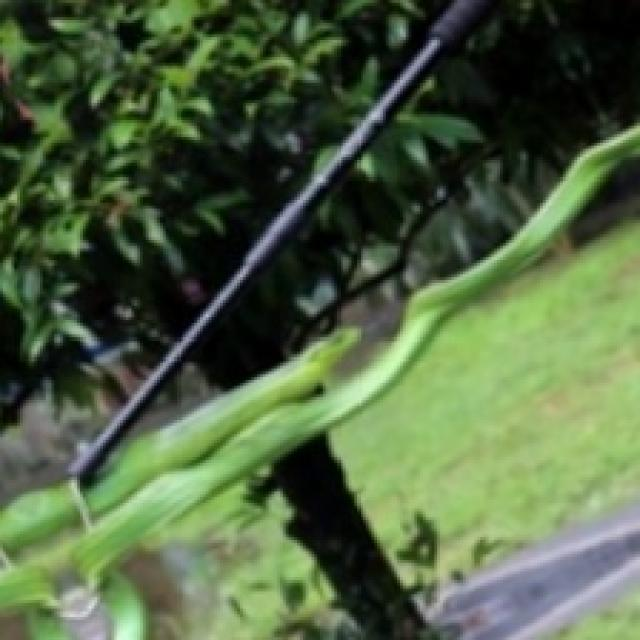red-tailed green ratsnake: (0, 127, 640, 611)
